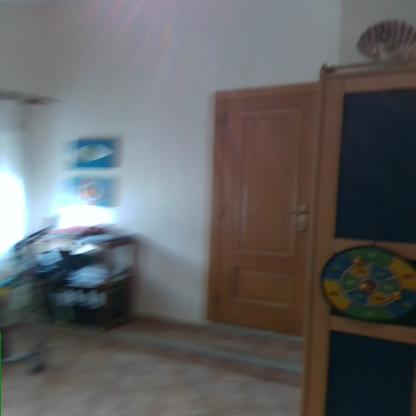closed: (202, 68, 316, 365)
